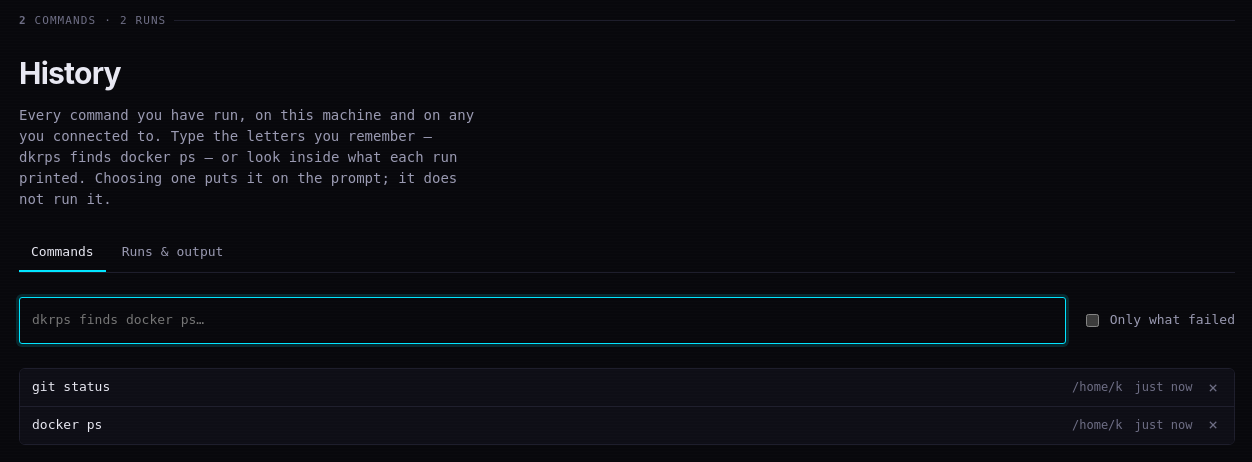
Scenario: the history section › finds a command by letters scattered through it
expect the button "docker ps" is shown: met, box [32,415,1060,436]
Type "dkrps" into the search field at (542,321), box [19,297,1066,344]
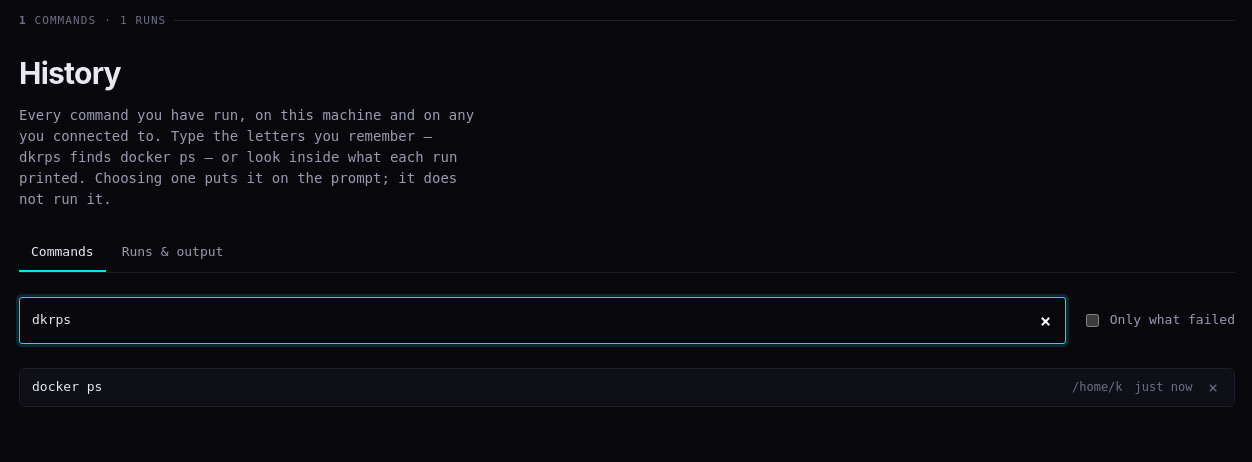
expect the button "docker ps" is shown: met, box [32,377,1060,398]
expect the button "git status" is gone: met
